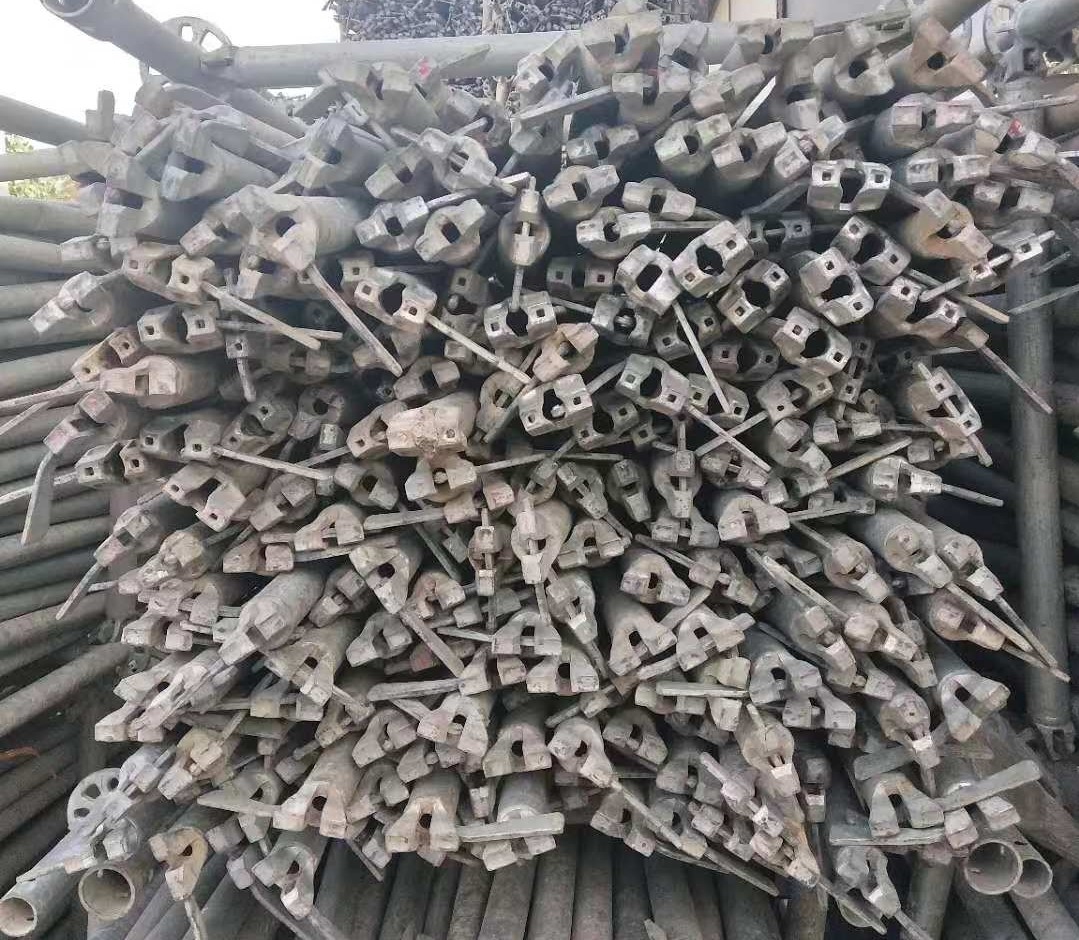NHsquare_steel: (237, 183, 316, 271), (25, 273, 102, 345), (912, 17, 990, 88), (418, 126, 498, 189), (915, 192, 989, 258), (415, 198, 484, 268), (834, 850, 903, 920), (248, 850, 317, 920), (974, 111, 1060, 167), (177, 192, 248, 257), (777, 112, 847, 177), (90, 155, 144, 237), (937, 795, 1020, 848), (160, 122, 214, 202), (621, 242, 681, 314), (841, 20, 896, 98), (41, 392, 112, 452), (886, 692, 942, 768), (350, 196, 427, 250), (159, 738, 226, 800), (291, 118, 351, 186), (948, 675, 1008, 743), (328, 58, 414, 105), (260, 649, 332, 705), (708, 121, 787, 172), (688, 63, 766, 113), (831, 539, 891, 604), (605, 621, 677, 675), (531, 321, 598, 379), (216, 609, 285, 665), (148, 829, 203, 899), (891, 525, 951, 589), (571, 9, 666, 49), (351, 545, 405, 615), (362, 143, 430, 198), (441, 90, 510, 144), (549, 729, 611, 789), (541, 578, 599, 642), (656, 114, 730, 164), (276, 790, 350, 840), (866, 789, 944, 836), (515, 33, 577, 92), (947, 538, 1004, 602), (590, 805, 654, 862), (54, 142, 103, 216), (849, 609, 916, 663), (753, 835, 822, 887), (974, 177, 1057, 220), (886, 97, 977, 136), (684, 559, 759, 606), (248, 478, 314, 531), (99, 763, 158, 822), (800, 604, 854, 668), (933, 604, 1005, 652), (734, 17, 812, 61), (677, 620, 744, 671), (691, 808, 754, 862), (383, 812, 462, 855), (205, 823, 254, 892), (93, 506, 150, 565), (648, 806, 707, 863), (751, 726, 798, 797), (537, 164, 618, 205), (743, 664, 822, 706), (771, 420, 828, 478), (722, 782, 784, 835), (419, 709, 487, 757), (351, 719, 415, 770), (442, 481, 515, 525), (95, 361, 186, 396), (554, 526, 628, 569), (391, 358, 461, 403), (505, 189, 546, 265), (309, 573, 365, 628), (486, 622, 567, 660), (620, 564, 691, 607), (574, 209, 651, 248), (480, 832, 557, 871), (453, 589, 522, 632), (558, 463, 609, 521), (908, 149, 990, 185), (142, 535, 203, 583), (864, 462, 941, 500), (564, 125, 639, 164), (404, 461, 479, 500), (515, 510, 555, 583), (798, 753, 838, 826), (623, 178, 694, 219), (313, 698, 376, 744), (635, 681, 709, 720), (602, 723, 669, 766), (613, 70, 690, 107), (716, 504, 789, 543), (227, 772, 269, 839), (290, 385, 341, 440), (612, 457, 655, 522), (654, 766, 722, 806), (703, 450, 769, 491), (662, 447, 699, 520), (146, 590, 221, 626), (712, 655, 748, 729), (404, 579, 467, 621), (344, 778, 407, 820), (900, 618, 937, 689), (775, 698, 857, 730), (336, 464, 395, 508), (258, 343, 334, 377), (395, 744, 463, 782), (457, 658, 528, 694), (249, 692, 320, 728), (476, 373, 520, 431), (55, 232, 140, 262), (486, 739, 551, 778), (219, 543, 293, 577), (527, 663, 601, 697), (346, 627, 412, 665), (758, 548, 821, 587), (90, 713, 166, 745), (667, 19, 712, 72), (786, 57, 819, 129), (811, 413, 885, 445), (649, 517, 721, 549), (292, 520, 365, 551), (119, 621, 193, 651), (518, 455, 561, 506), (473, 523, 502, 598), (348, 821, 391, 871), (765, 472, 829, 505), (234, 257, 281, 301), (312, 424, 340, 495), (808, 489, 877, 516), (905, 435, 976, 461), (433, 520, 470, 564)
THsquare_steel: (797, 248, 874, 325), (675, 222, 748, 295), (881, 279, 958, 340), (352, 274, 437, 329), (119, 242, 201, 299), (835, 216, 909, 278), (722, 261, 785, 332), (777, 309, 848, 372), (805, 155, 889, 208), (486, 290, 555, 352), (516, 378, 592, 434), (161, 473, 232, 532), (619, 355, 686, 415), (138, 303, 219, 352), (136, 419, 219, 465), (70, 327, 138, 382), (221, 397, 286, 451), (73, 446, 148, 490), (683, 378, 747, 427), (574, 400, 638, 449), (290, 253, 371, 289), (709, 337, 780, 378), (300, 301, 361, 348), (548, 259, 614, 296), (862, 345, 918, 377)
THsquare_steel_blocked: (958, 232, 1041, 292), (914, 370, 983, 440), (648, 303, 721, 357), (758, 373, 832, 423), (440, 268, 482, 336), (744, 211, 812, 252), (833, 336, 873, 402), (346, 406, 395, 457), (634, 412, 692, 447), (222, 289, 249, 358)
circle_steel: (960, 840, 1023, 896), (77, 867, 141, 920), (1, 894, 41, 940), (1013, 857, 1054, 899)
